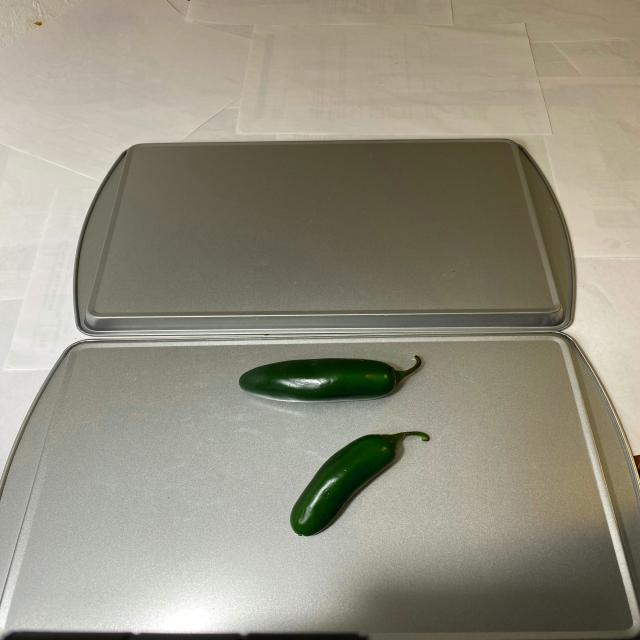chilli: (235, 358, 440, 539)
